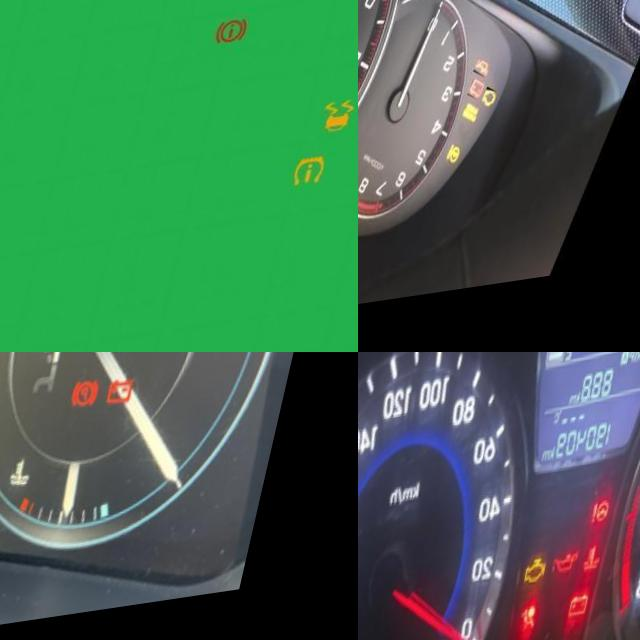High Engine Coolant Temperature: (598, 550, 624, 585)
